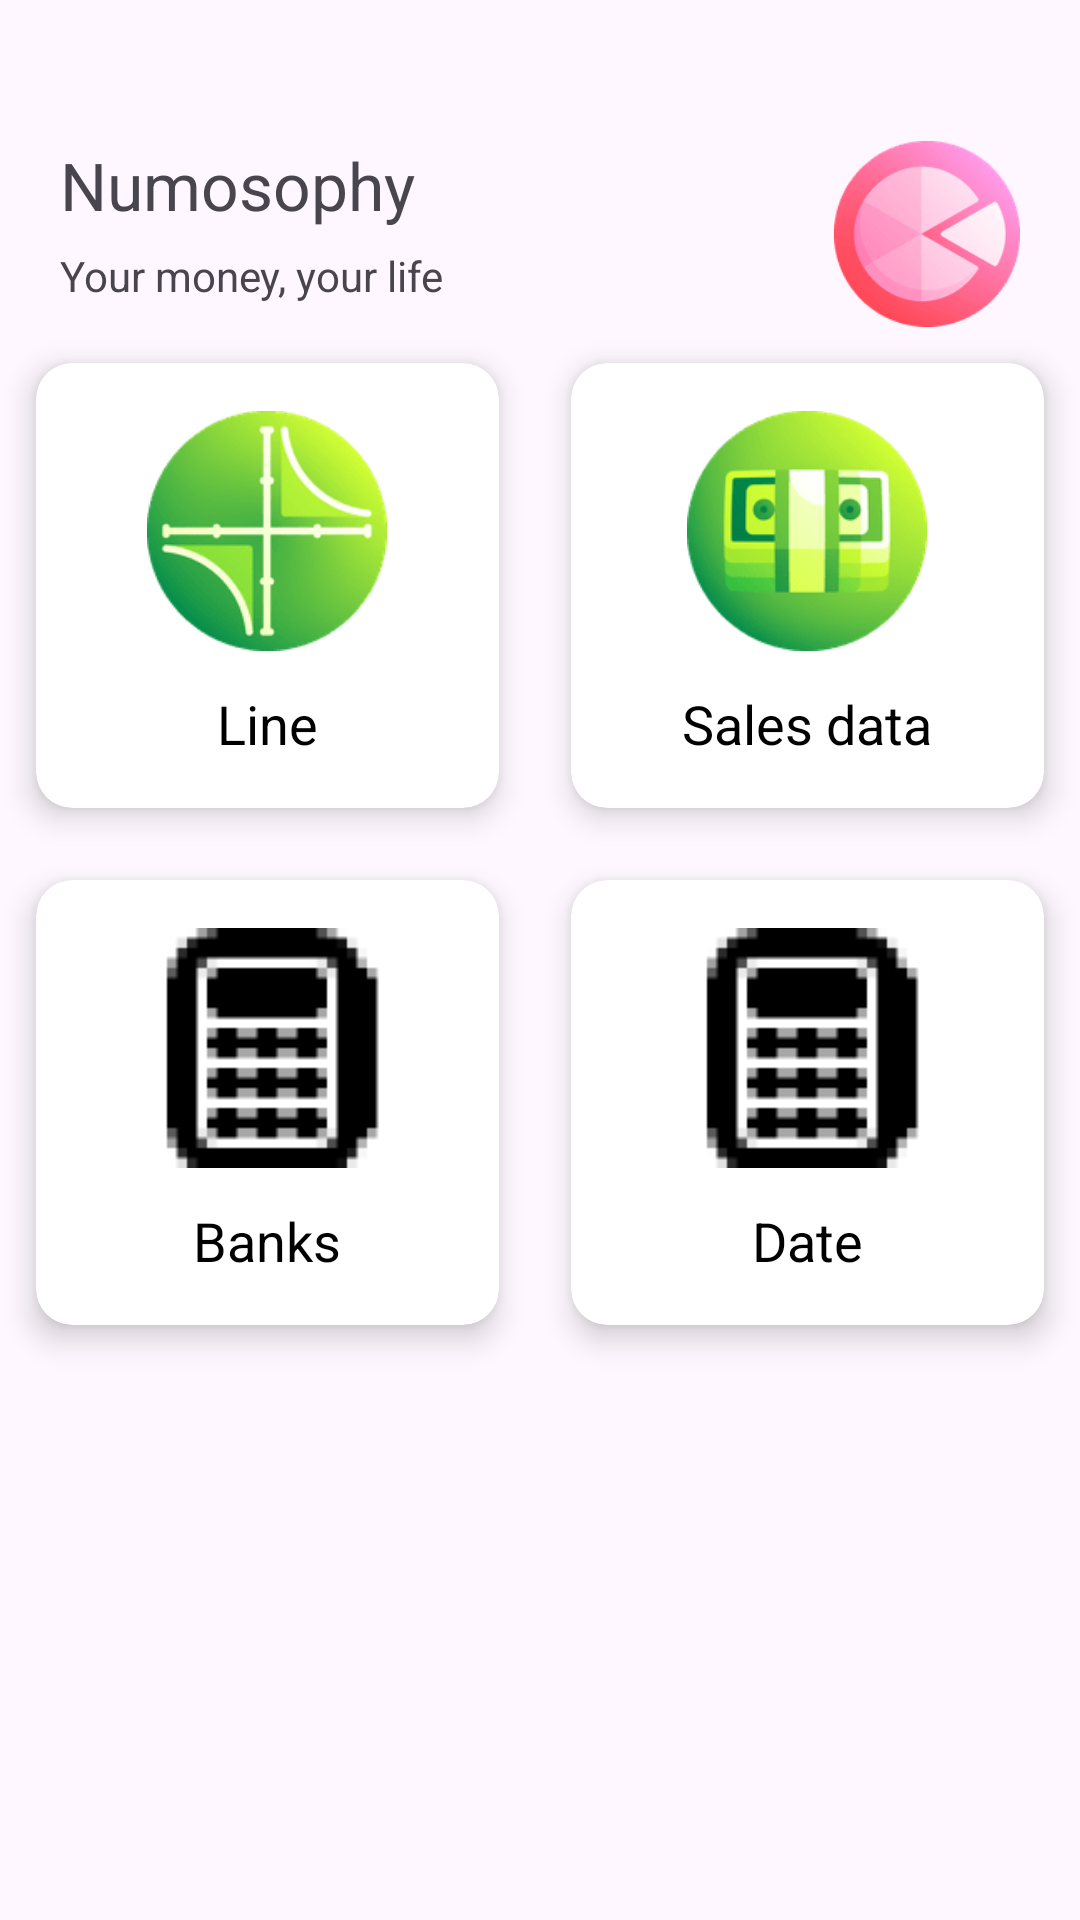

Icon bounding boxes for this 1080x1920 phone screenshot, format box=[x1, y1, x2, y2]:
chart ball: box=[834, 141, 1020, 327]
dollar optimized: box=[687, 411, 927, 651]
function optimized: box=[147, 411, 387, 651]
